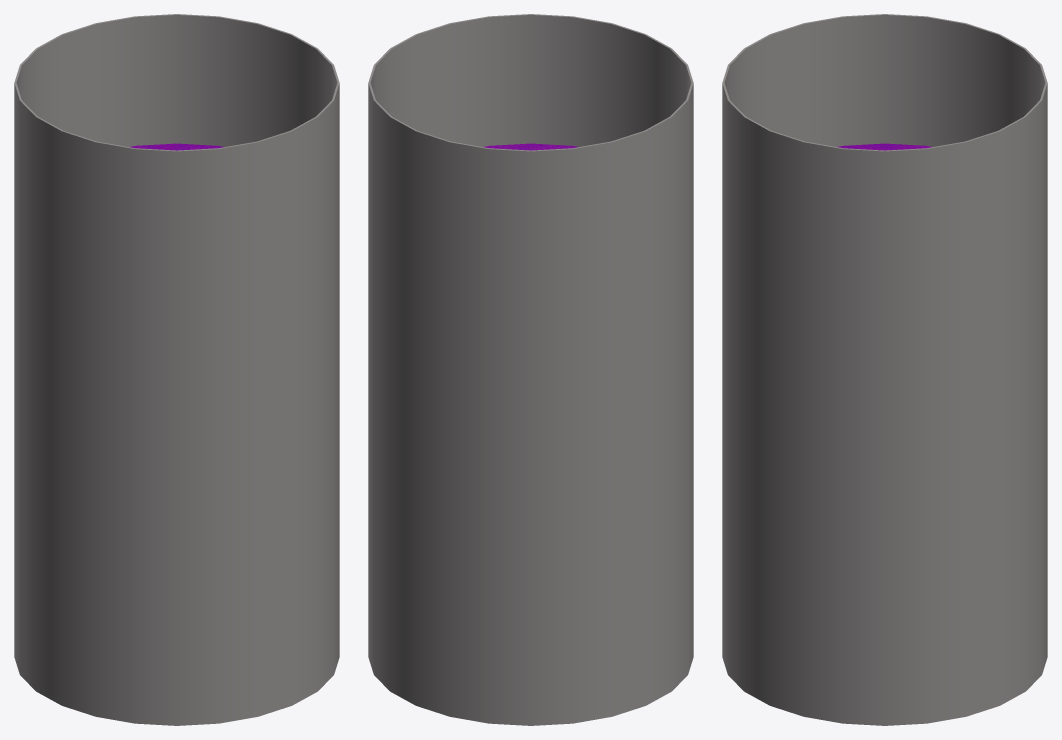
Rendered from glass+of+juice.dae.
The picture shows the model from 3 angles, left to right: view 1: azimuth 30°, elevation 25°; view 2: azimuth 150°, elevation 25°; view 3: azimuth 270°, elevation 25°; orthographic projection.
Visible parts, largest first — view 1: SketchUp (×2); view 2: SketchUp (×2); view 3: SketchUp (×2).
Part boxes in pixels (x1,y1,x2,y2): SketchUp (×2): [14, 14, 339, 725]; SketchUp (×2): [368, 14, 693, 725]; SketchUp (×2): [722, 14, 1047, 725].
Bounding box in the file's own units: 49 × 49 × 95.5.
2 materials, 1 textured.
